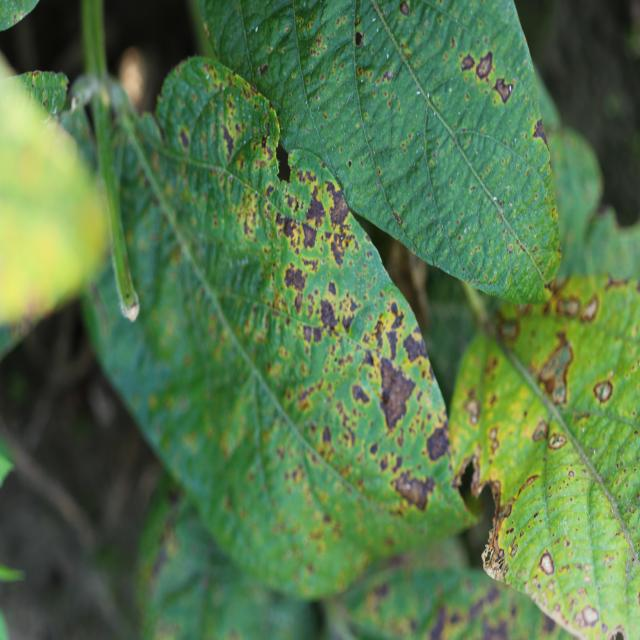Bacterial_Blight: (384, 351, 416, 444), (221, 162, 272, 213), (257, 257, 287, 340), (172, 116, 205, 187), (399, 465, 434, 510), (381, 290, 404, 342), (312, 418, 347, 451), (314, 264, 342, 298), (337, 294, 356, 341), (355, 369, 373, 418), (329, 230, 353, 260), (299, 222, 320, 251), (240, 197, 256, 232), (312, 332, 327, 359)
Soybean: (19, 57, 447, 602)
